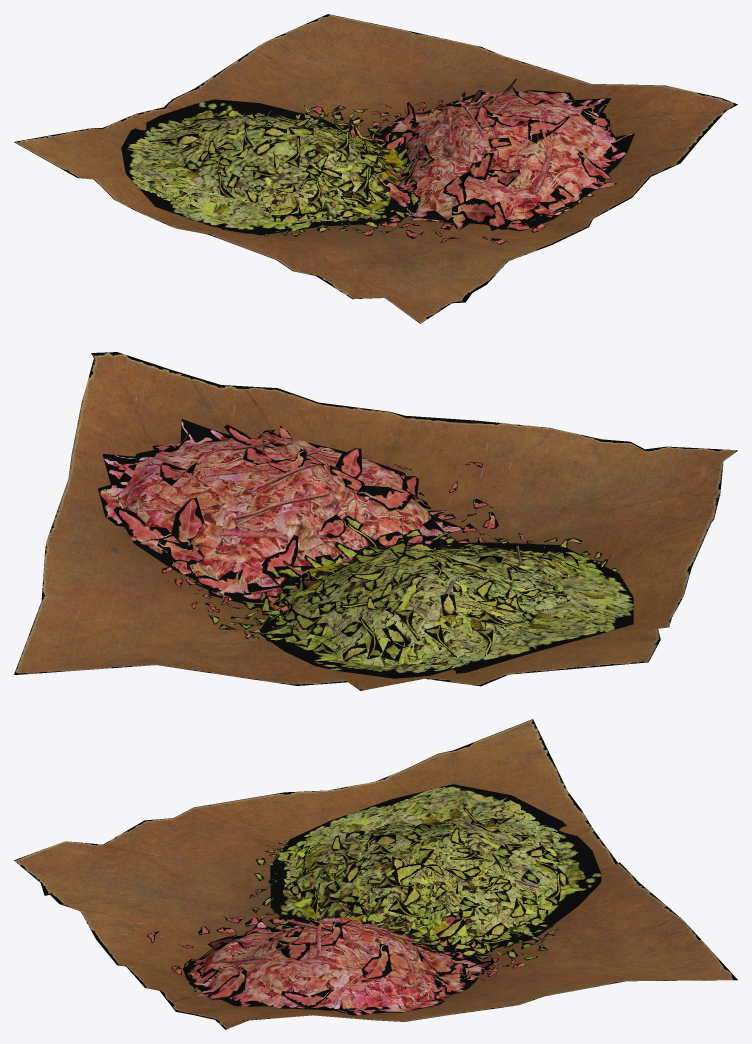
The model's file is sm70_005_herbsgr01a.fbx.
3 views of the same model, one above another, from view 1: azimuth 30°, elevation 25°; view 2: azimuth 150°, elevation 25°; view 3: azimuth 270°, elevation 25° (orthographic). The views are drawn at different scales.
Visible parts, largest first — view 1: LOD_1_Group_0_Sub_1__sm70_004_HerbsGG01A_Mat__Env_AlphaTest, LOD_1_Group_2_Sub_1__sm70_004_HerbsGG01A_Mat__Env_AlphaTest, LOD_1_Group_1_Sub_1__sm70_004_HerbsGG01A_Mat__Env_AlphaTest, LOD_1_Group_3_Sub_1__sm70_004_HerbsGG01A_mt; view 2: LOD_1_Group_0_Sub_1__sm70_004_HerbsGG01A_Mat__Env_AlphaTest, LOD_1_Group_2_Sub_1__sm70_004_HerbsGG01A_Mat__Env_AlphaTest, LOD_1_Group_1_Sub_1__sm70_004_HerbsGG01A_Mat__Env_AlphaTest, LOD_1_Group_3_Sub_1__sm70_004_HerbsGG01A_mt; view 3: LOD_1_Group_0_Sub_1__sm70_004_HerbsGG01A_Mat__Env_AlphaTest, LOD_1_Group_2_Sub_1__sm70_004_HerbsGG01A_Mat__Env_AlphaTest, LOD_1_Group_1_Sub_1__sm70_004_HerbsGG01A_Mat__Env_AlphaTest, LOD_1_Group_3_Sub_1__sm70_004_HerbsGG01A_mt.
Part boxes in pixels (x1,y1,x2,y2): LOD_1_Group_0_Sub_1__sm70_004_HerbsGG01A_Mat__Env_AlphaTest: (14,14,737,323); LOD_1_Group_2_Sub_1__sm70_004_HerbsGG01A_Mat__Env_AlphaTest: (121,99,434,236); LOD_1_Group_1_Sub_1__sm70_004_HerbsGG01A_Mat__Env_AlphaTest: (310,79,634,244); LOD_1_Group_3_Sub_1__sm70_004_HerbsGG01A_mt: (447,99,553,194); LOD_1_Group_0_Sub_1__sm70_004_HerbsGG01A_Mat__Env_AlphaTest: (14,352,737,690); LOD_1_Group_2_Sub_1__sm70_004_HerbsGG01A_Mat__Env_AlphaTest: (208,515,633,678); LOD_1_Group_1_Sub_1__sm70_004_HerbsGG01A_Mat__Env_AlphaTest: (98,419,531,638); LOD_1_Group_3_Sub_1__sm70_004_HerbsGG01A_mt: (204,430,340,519); LOD_1_Group_0_Sub_1__sm70_004_HerbsGG01A_Mat__Env_AlphaTest: (14,719,737,1029); LOD_1_Group_2_Sub_1__sm70_004_HerbsGG01A_Mat__Env_AlphaTest: (252,784,601,960); LOD_1_Group_1_Sub_1__sm70_004_HerbsGG01A_Mat__Env_AlphaTest: (147,891,555,1015); LOD_1_Group_3_Sub_1__sm70_004_HerbsGG01A_mt: (219,919,414,963).
Bounding box in the file's own units: 0.2897 × 0.0336 × 0.2866.
